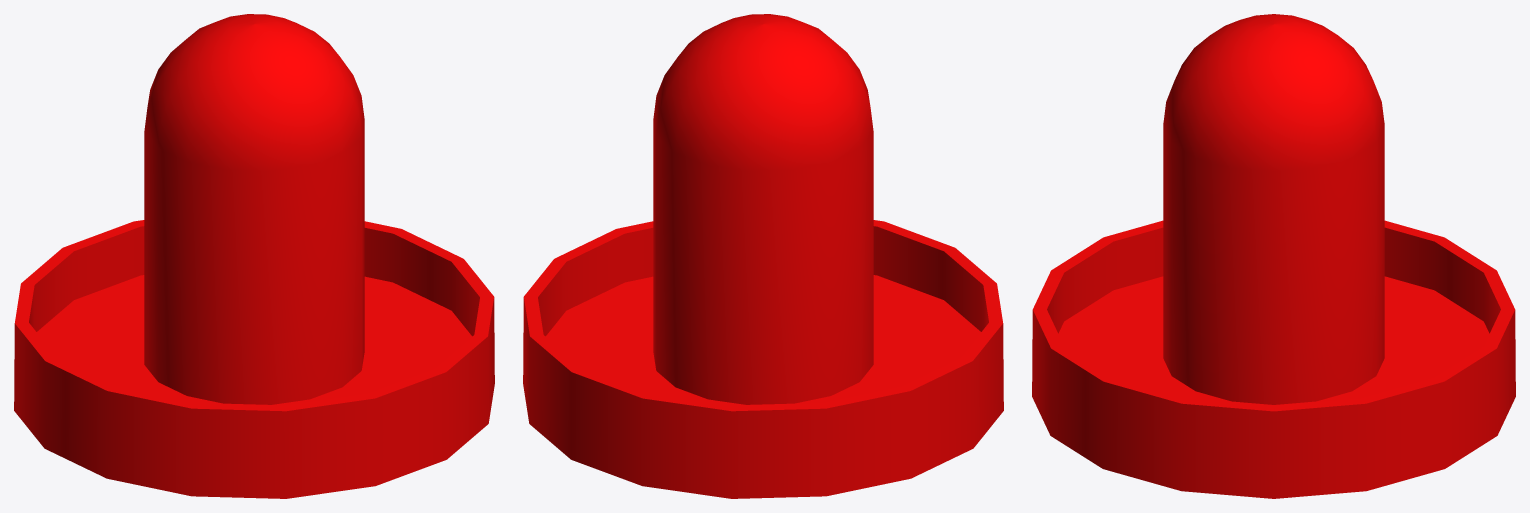
Rendered from Mallet_AI.FBX.
3 renders of one model, left to right at view 1: azimuth 30°, elevation 25°; view 2: azimuth 150°, elevation 25°; view 3: azimuth 270°, elevation 25°, orthographic.
Parts seen in each view (by area): view 1: Mallet_AI; view 2: Mallet_AI; view 3: Mallet_AI.
Part boxes in pixels (x1,y1,x2,y2): Mallet_AI: [14, 14, 494, 498]; Mallet_AI: [523, 14, 1003, 498]; Mallet_AI: [1032, 14, 1515, 498].
Size of the model in its own units: 0.1311 by 0.1311 by 0.1115.
